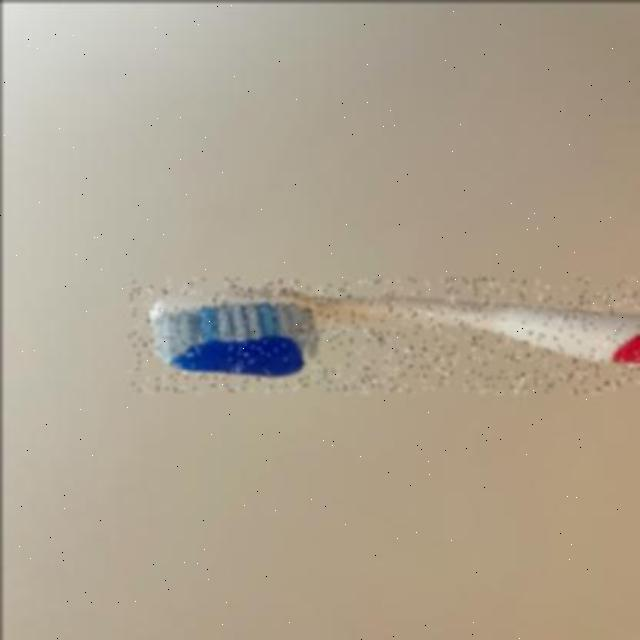toothbrush: (128, 278, 640, 392)
